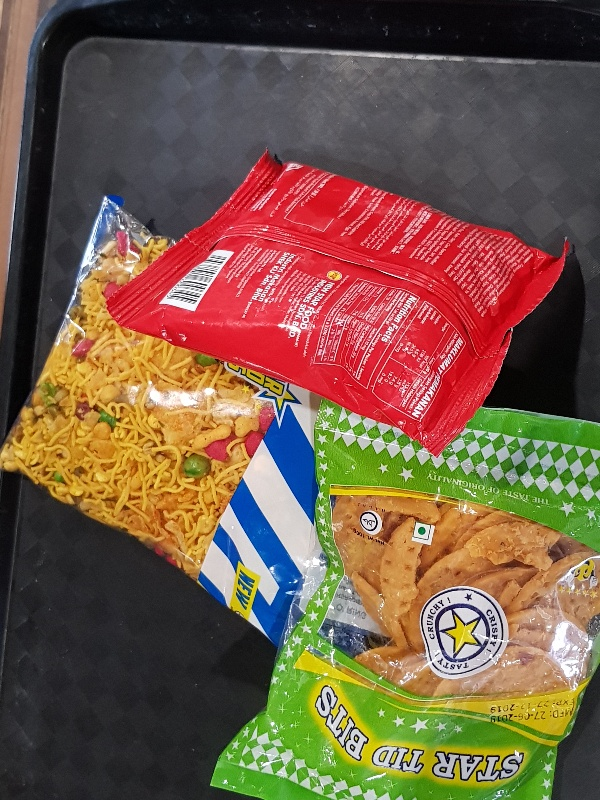ShoyueMi Spicy Flavoured Snacks: (103, 145, 568, 459)
Star Tidbits 'O' Ring: (207, 394, 600, 797)
Star Tidbits Mixer: (1, 193, 323, 649)
